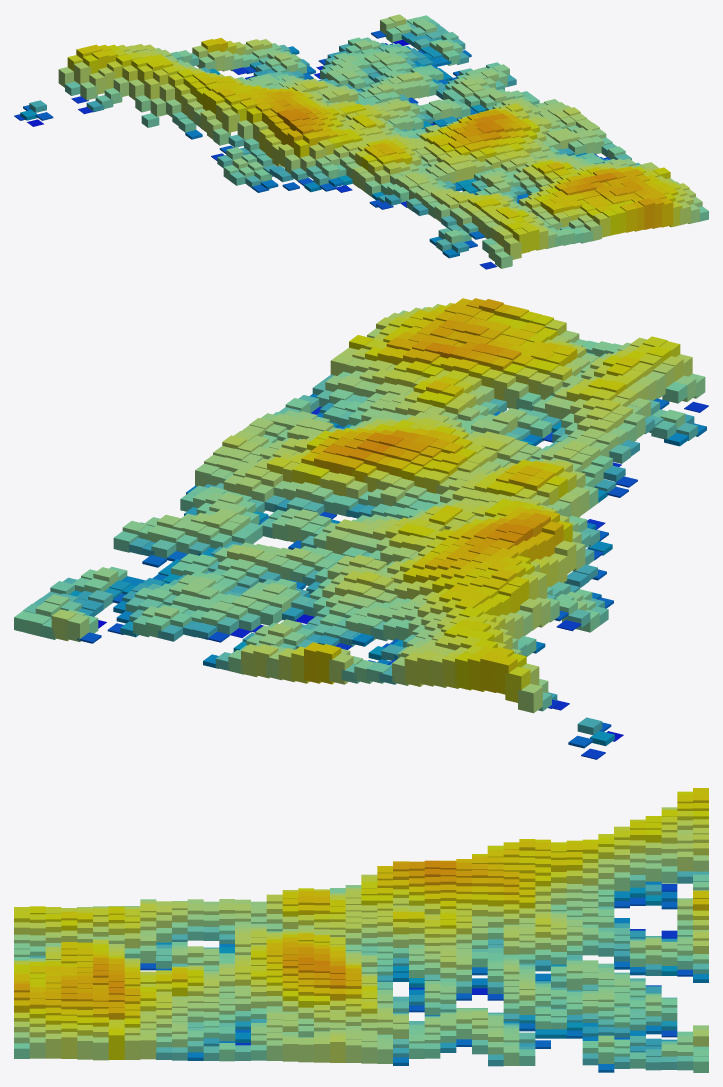
Rendered from population.glb.
3 renders of one model, top to bottom at view 1: azimuth 30°, elevation 25°; view 2: azimuth 150°, elevation 25°; view 3: azimuth 270°, elevation 25°, orthographic. The views are drawn at different scales.
Visible parts, largest first — view 1: population; view 2: population; view 3: population.
Part boxes in pixels (x1,y1,x2,y2): population: (14,14,708,269); population: (14,298,708,759); population: (14,788,708,1072).
Bounding box in the file's own units: 3704 × 539 × 4387.
